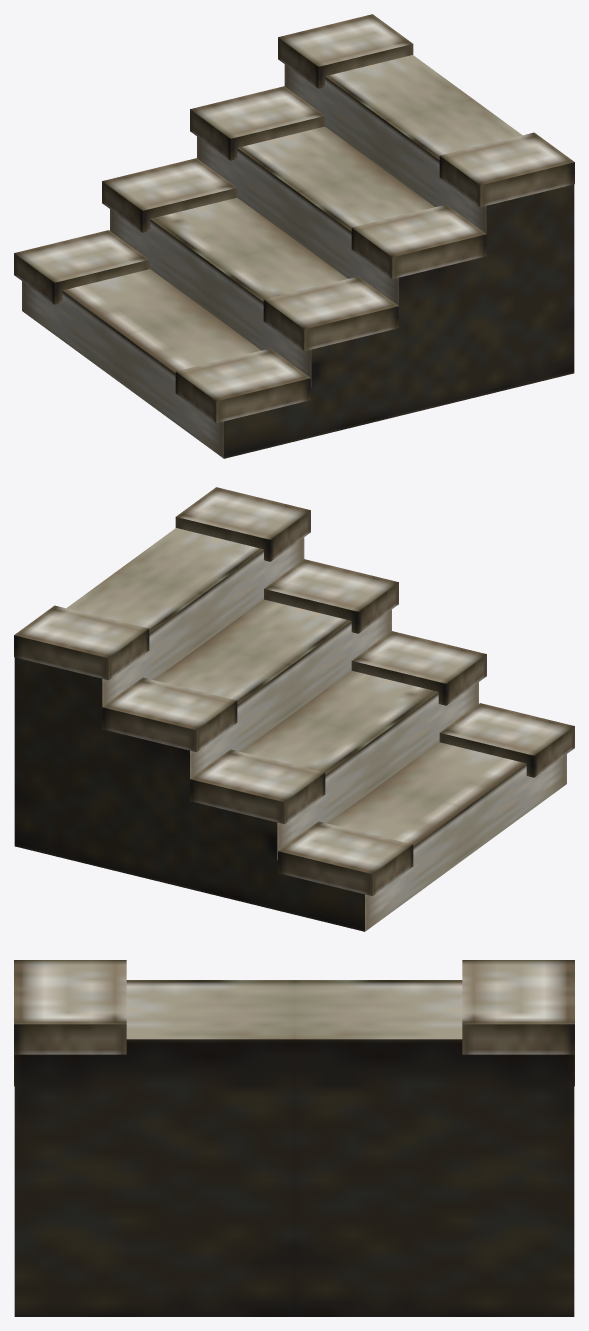
Rendered from Poly_Stairs_01_Left.obj.
The picture shows the model from 3 angles, top to bottom: view 1: azimuth 30°, elevation 25°; view 2: azimuth 150°, elevation 25°; view 3: azimuth 270°, elevation 25°; orthographic projection. The views are drawn at different scales.
Visible parts, largest first — view 1: Cube.001, Cube.002; view 2: Cube.001, Cube.002; view 3: Cube.001, Cube.002.
Boxes of the visible parts, x1,y1,x2,y2 form: Cube.001: [22, 55, 574, 458]; Cube.002: [14, 14, 574, 422]; Cube.001: [14, 528, 566, 931]; Cube.002: [14, 487, 574, 895]; Cube.001: [14, 980, 574, 1316]; Cube.002: [14, 960, 574, 1086].
Size of the model in its own units: 1.03 by 0.577 by 1.
Materials: 1 (1 with a texture image).
